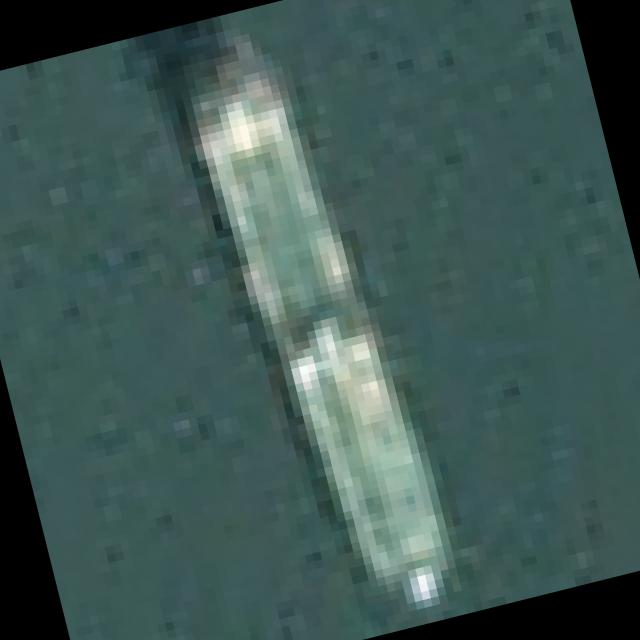ship: (115, 0, 532, 640)
